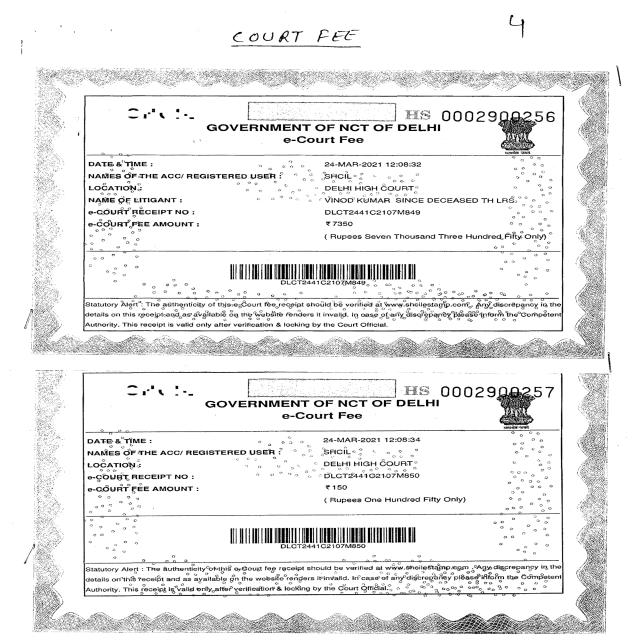page-number: (366, 3, 633, 66)
